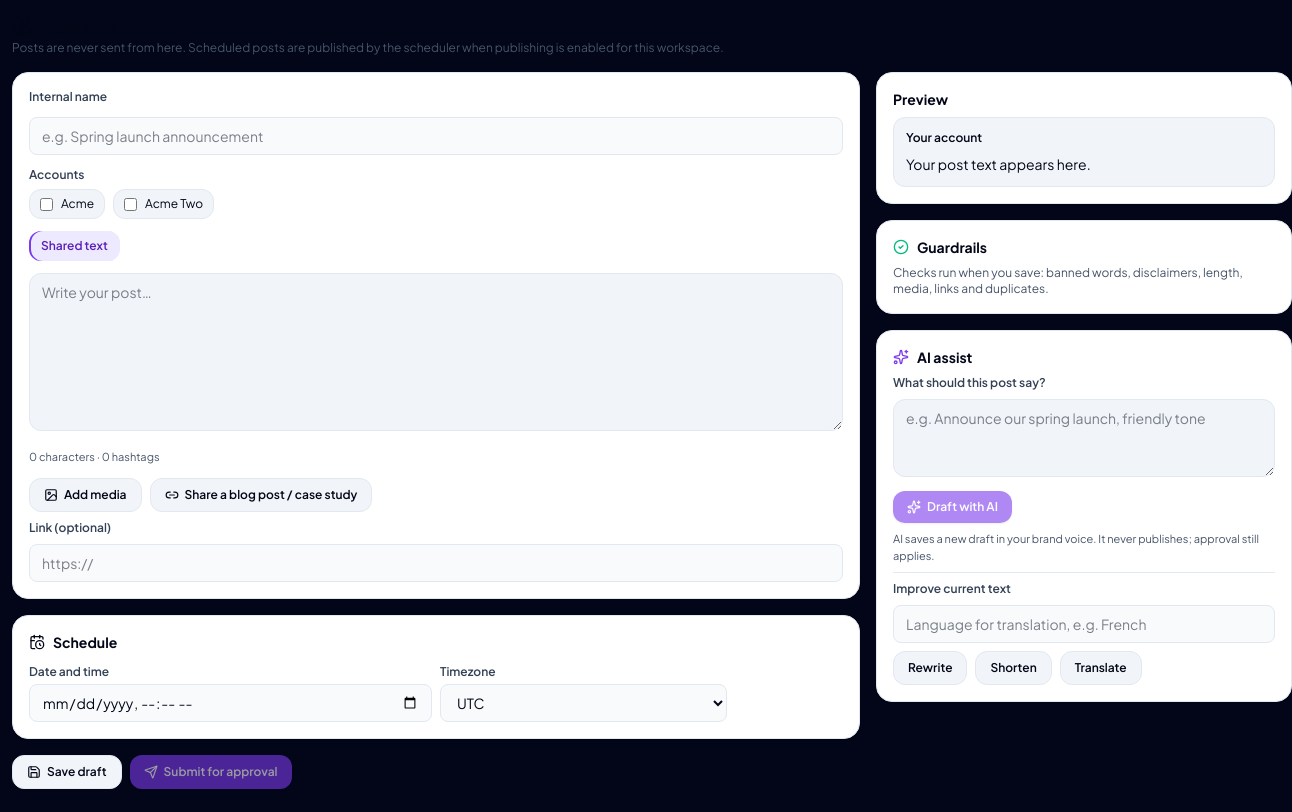
Test case: SocialComposerPage › AI assist drafts from a brief and rewrites with undo
This screenshot has width=1292, height=812.
Later steps or results of the test are not shown.
Expected: the field labelled "Internal name" is shown, [29,117,843,155]
Step 1. Click the checkbox labelled "Acme" → (46, 204), box [40,198,53,210]
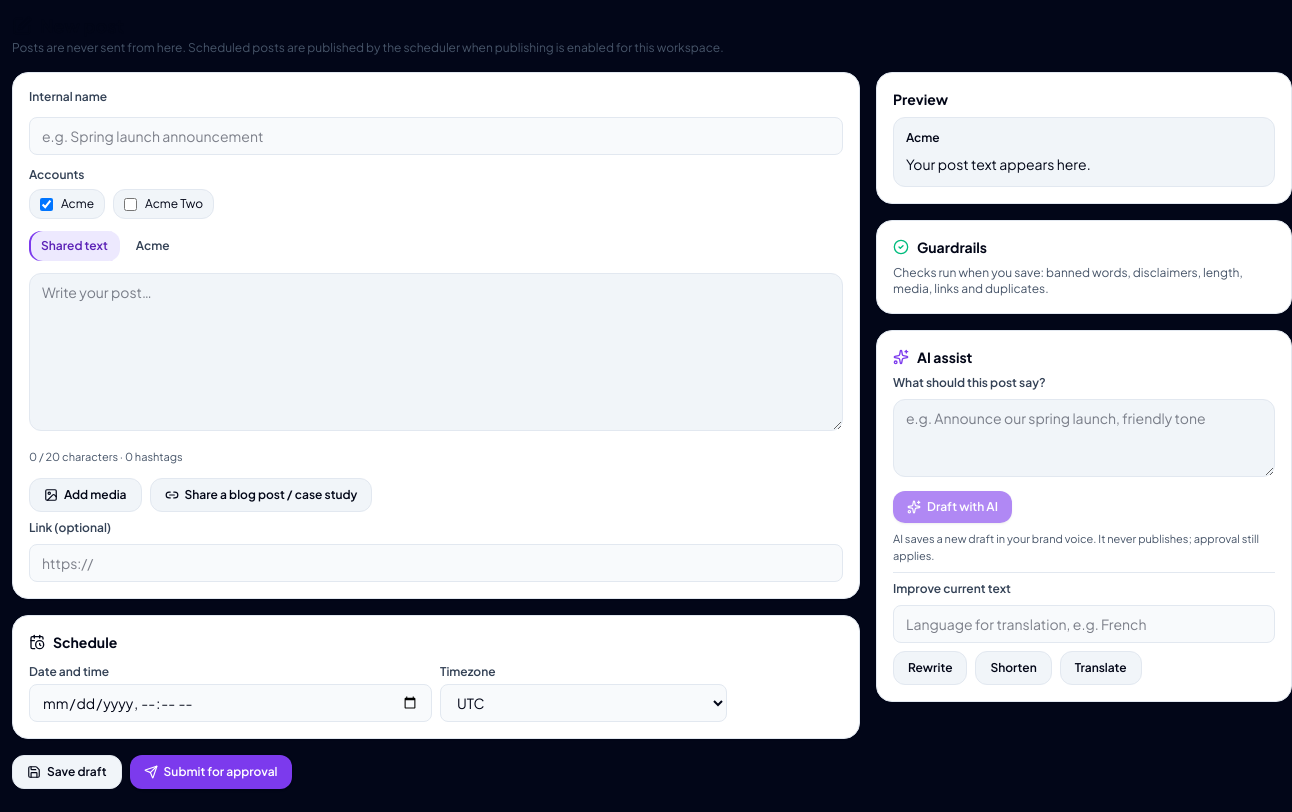
Step 2. Type "Announce spring" into the text box labelled "What should this post say?" → (1084, 438), box [893,399,1275,477]
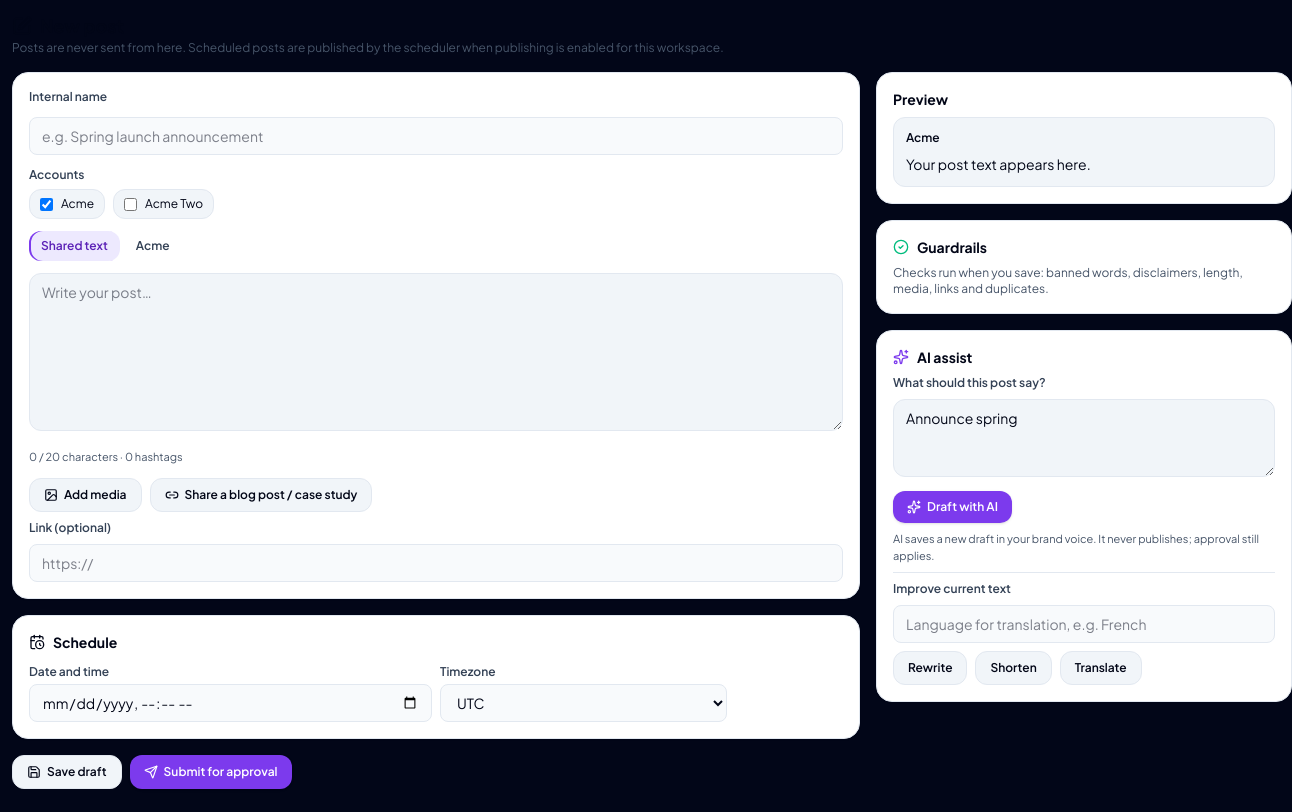
Step 3. Click the button "Draft with AI" → (952, 507), box [893,491,1012,523]
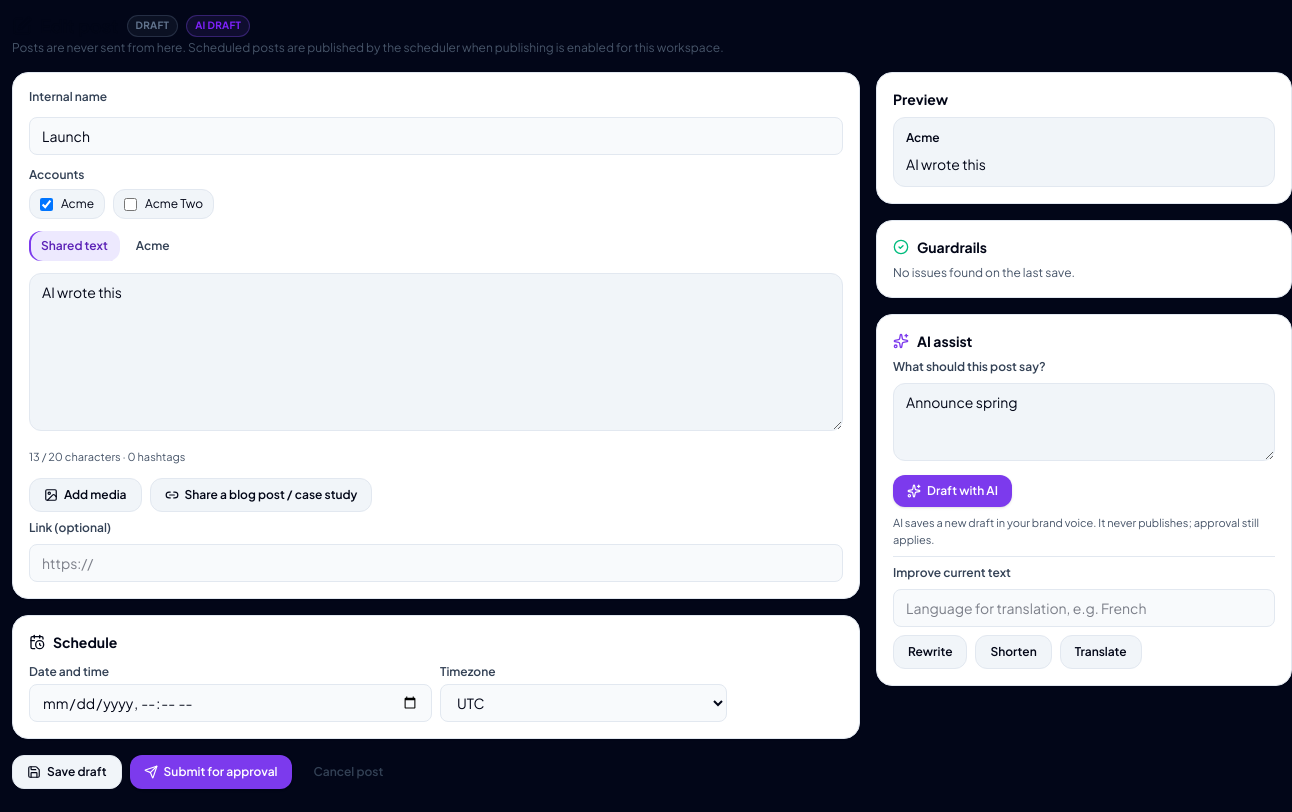
Now the text "AI draft" is shown, box [186,15,250,37]
Now the text box named "Post text" holds "AI wrote this", box [29,273,843,431]
Step 4. Click the button "Shorten" → (1014, 652), box [976,635,1052,669]
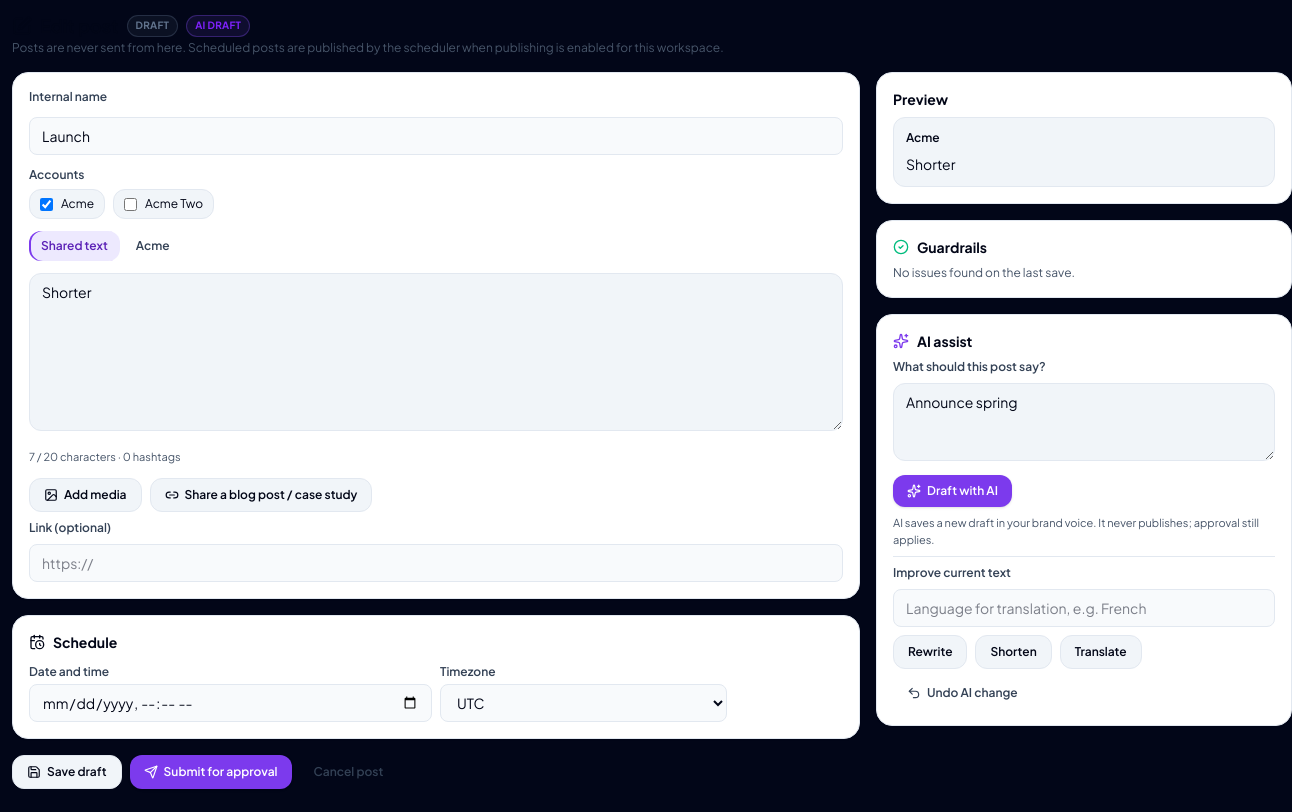
Now the text box named "Post text" holds "Shorter", box [29,273,843,431]
